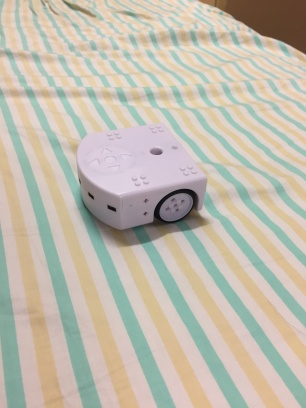thymio: (71, 117, 212, 240)
